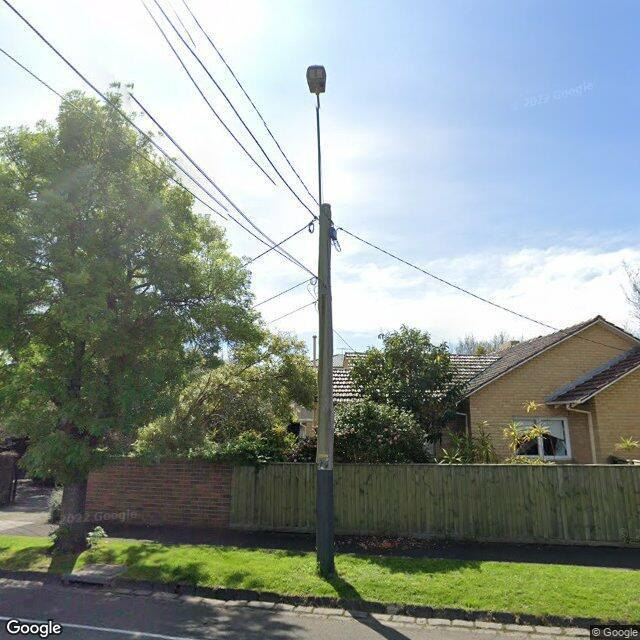streetlight: (306, 64, 326, 214)
timber-pole: (316, 204, 333, 577)
